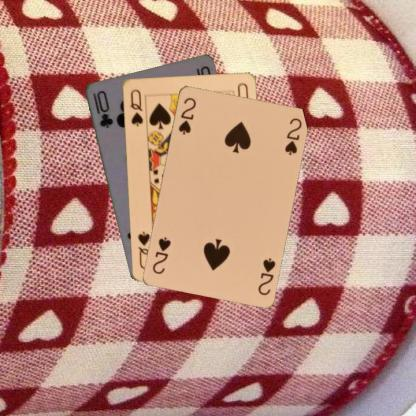10c: (90, 88, 114, 130)
2s: (255, 255, 277, 296), (176, 95, 197, 136)
Qs: (126, 87, 144, 127)
